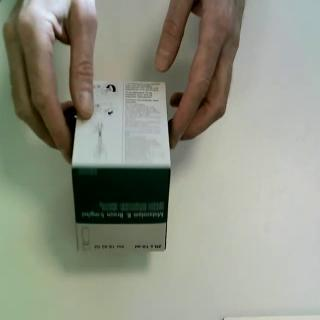midazolam5mg_ml: (71, 77, 173, 257)
